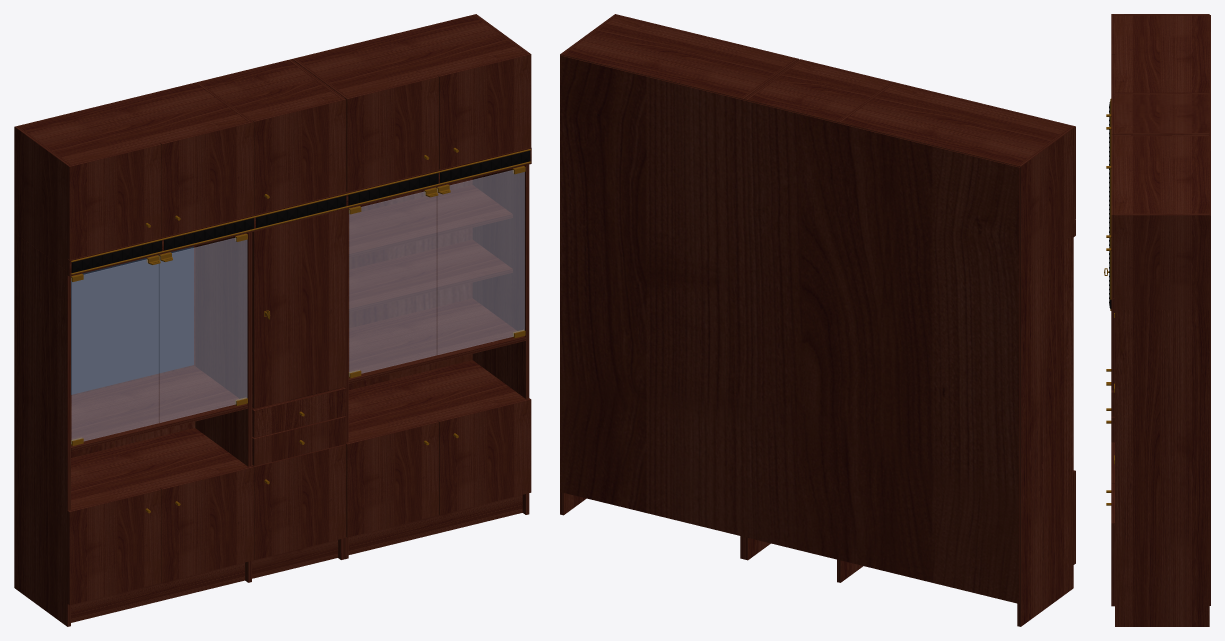
File: cupboard.glb
3 views of the same model, side by side, from view 1: azimuth 30°, elevation 25°; view 2: azimuth 150°, elevation 25°; view 3: azimuth 270°, elevation 25° (orthographic). The views are drawn at different scales.
Visible parts, largest first — view 1: Box001; view 2: Box001; view 3: Box001.
Boxes of the visible parts, bbox=[...] form: Box001: bbox=[14, 14, 531, 626]; Box001: bbox=[560, 14, 1075, 626]; Box001: bbox=[1104, 14, 1210, 626].
Size of what is drawn, in the model's own units: 81.89 by 78.18 by 18.39.
8 materials, 2 textured.
